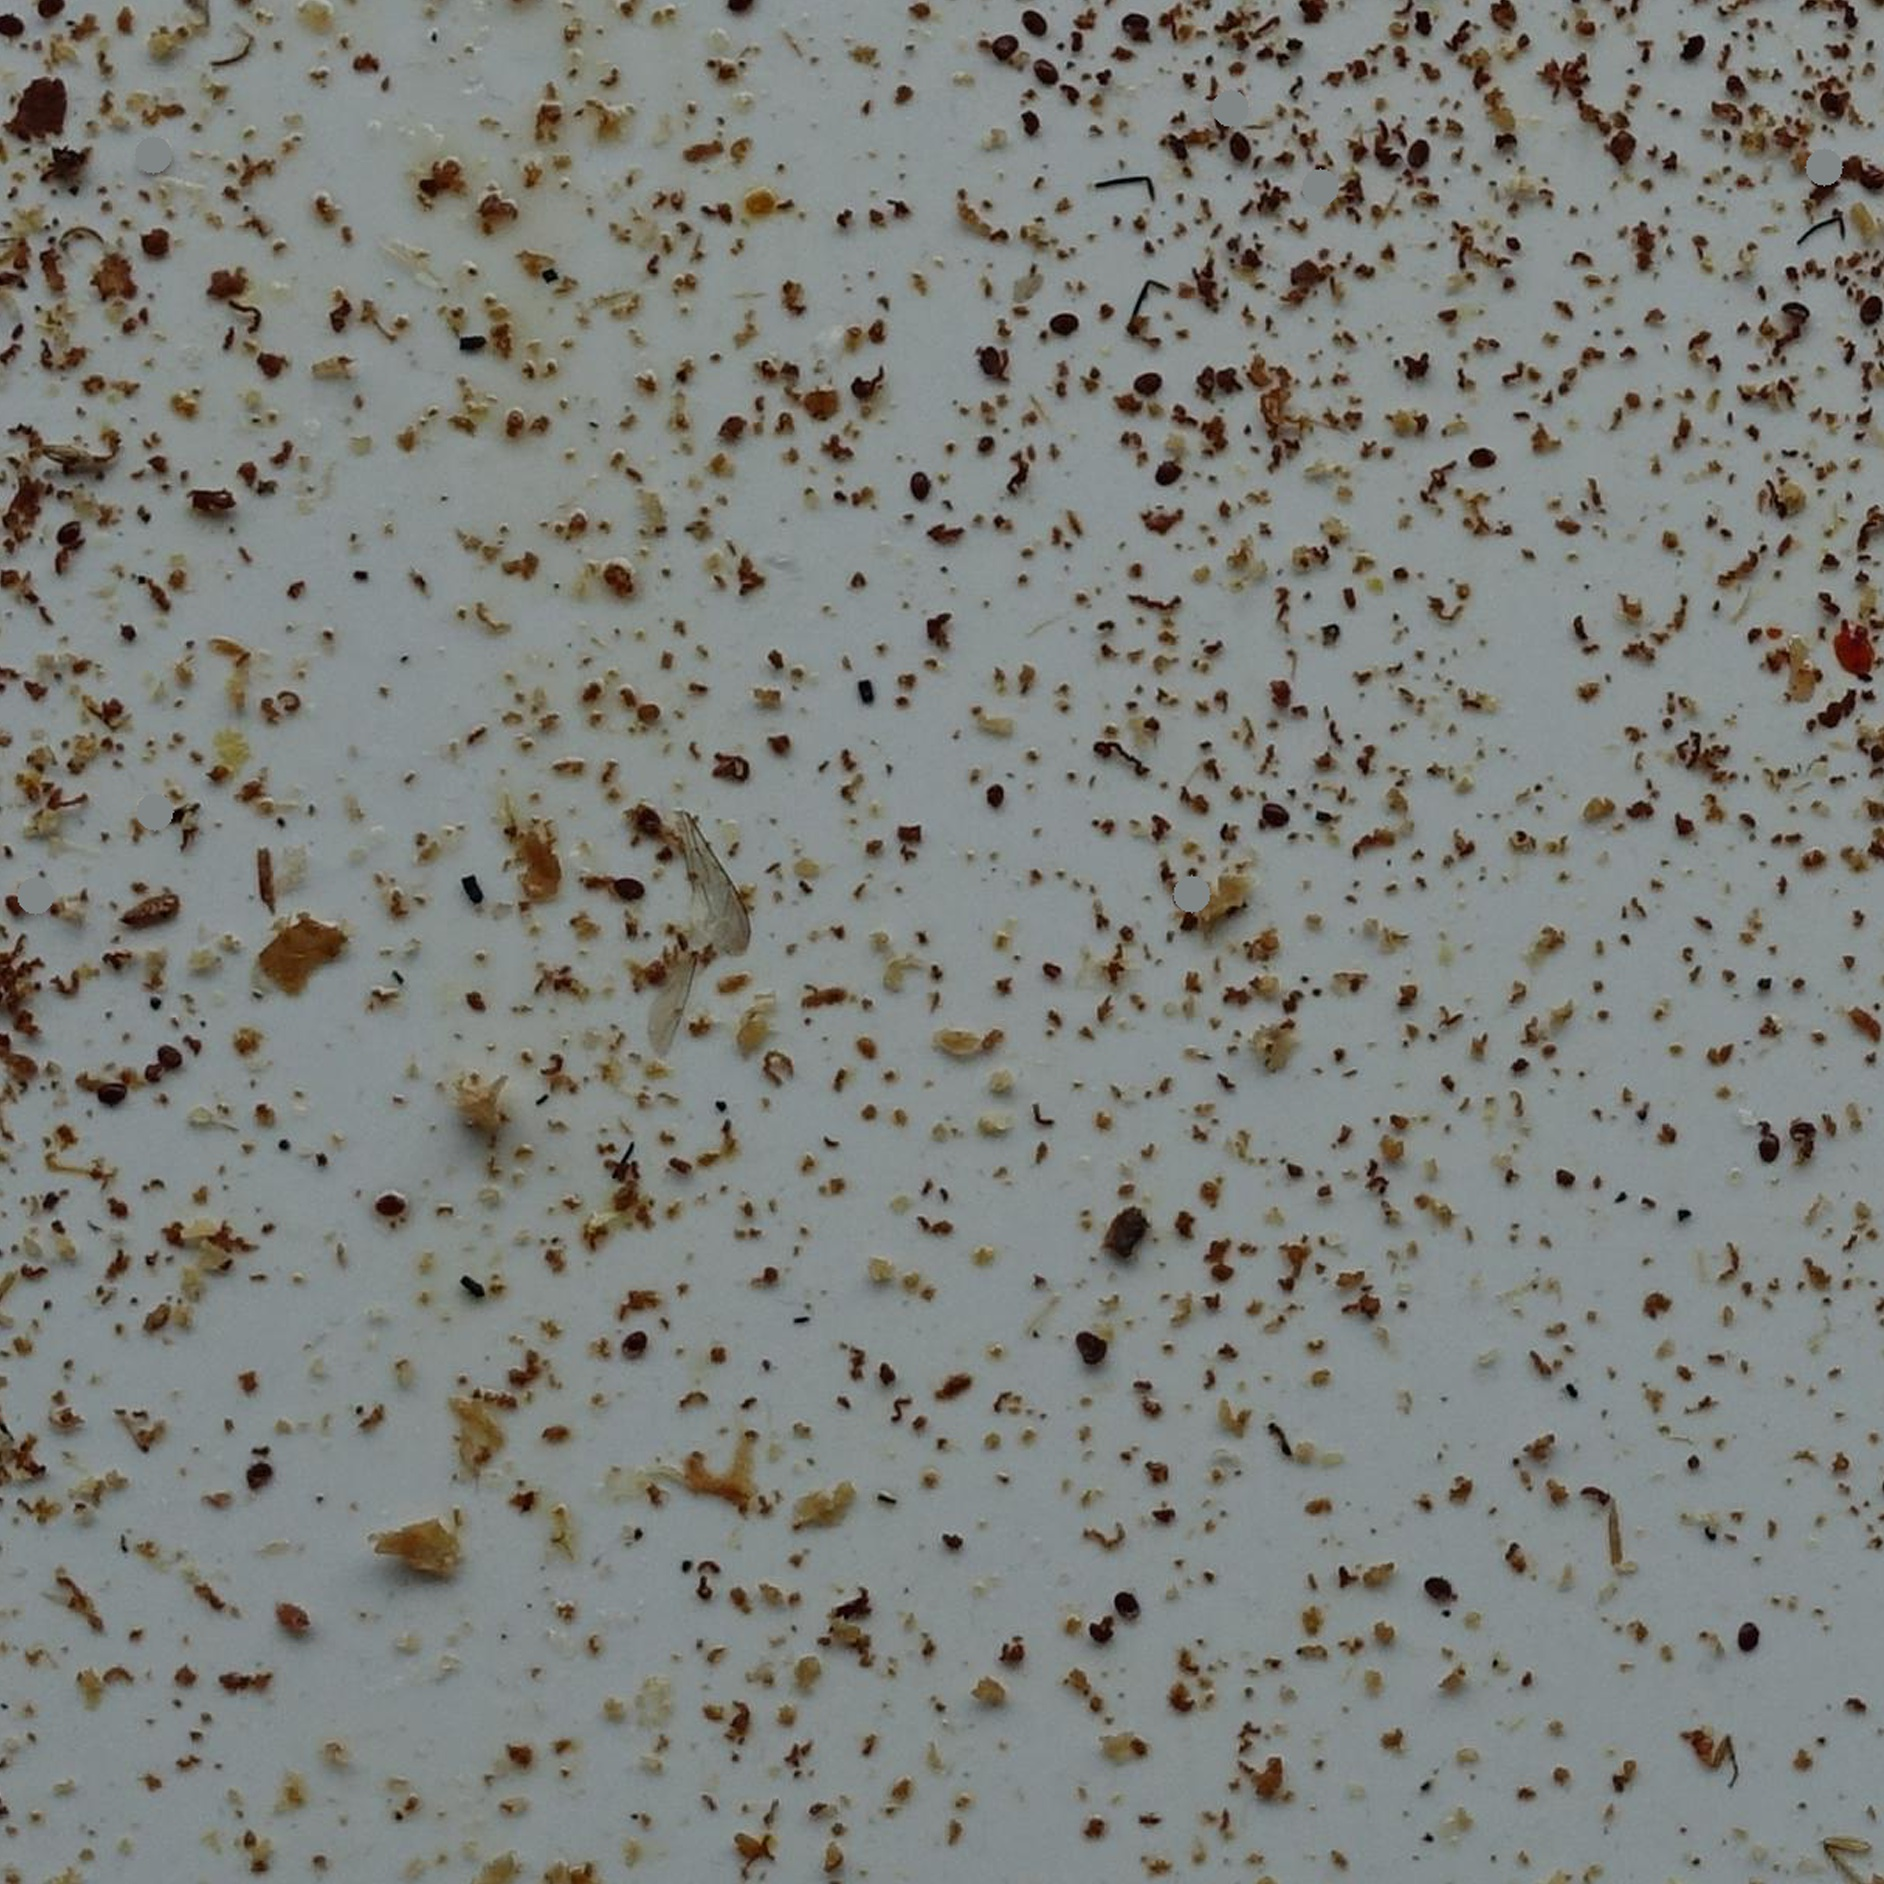Varroa: (1755, 1127, 1782, 1154), (1780, 300, 1810, 326), (980, 349, 1008, 374), (1021, 5, 1049, 31), (1123, 12, 1147, 40), (1682, 33, 1706, 59), (1820, 91, 1846, 116), (609, 878, 633, 902), (380, 1190, 404, 1215), (623, 1330, 647, 1354), (59, 518, 83, 542), (1404, 141, 1429, 166), (159, 1046, 181, 1071), (1427, 1575, 1449, 1601), (1473, 445, 1496, 471), (1080, 1335, 1102, 1360), (983, 783, 1006, 807), (1265, 802, 1287, 826), (1116, 1592, 1139, 1617), (1137, 371, 1159, 395), (248, 1463, 273, 1485), (1035, 62, 1058, 86), (1737, 1625, 1760, 1648), (849, 385, 871, 407), (1159, 457, 1182, 478), (1052, 309, 1075, 330), (1856, 295, 1875, 319), (102, 1080, 122, 1101), (992, 35, 1013, 55), (911, 473, 930, 492), (1232, 141, 1244, 155)
